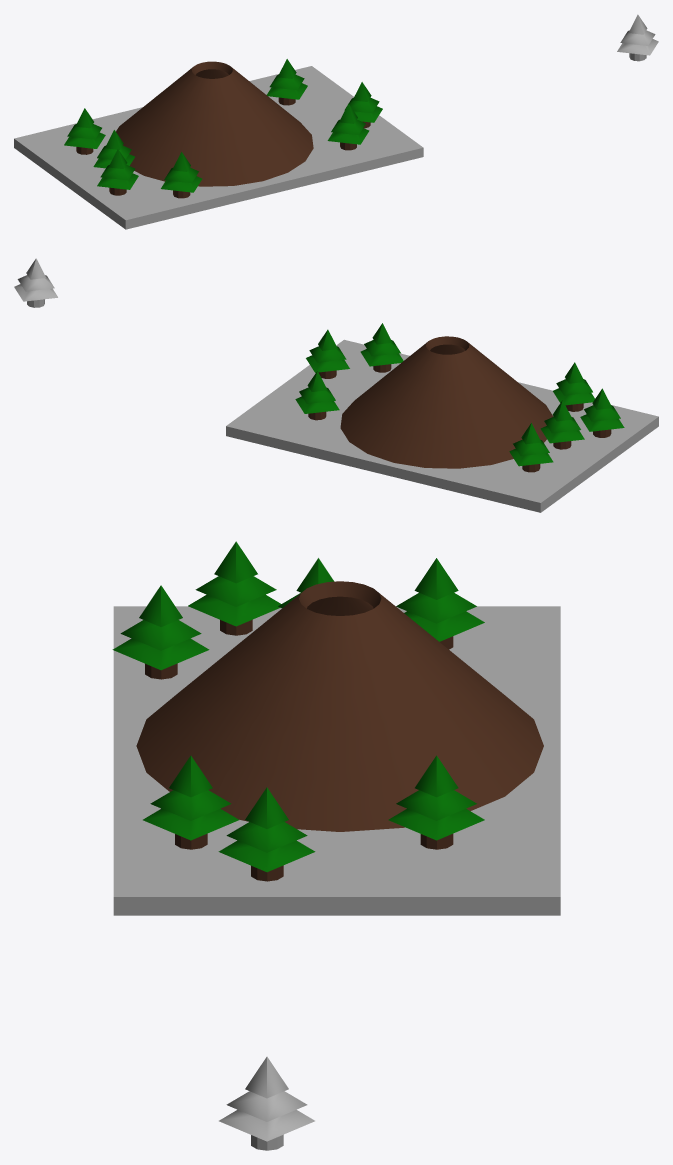
File: volcano.fbx
3 views of the same model, one above another, from view 1: azimuth 30°, elevation 25°; view 2: azimuth 150°, elevation 25°; view 3: azimuth 270°, elevation 25° (orthographic). The views are drawn at different scales.
Parts seen in each view (by area): view 1: base, volcano, tree5, tree3, tree6, tree4, tree2, trunk, tree, tree1; view 2: volcano, base, tree1, tree4, tree2, tree3, tree5, tree, tree6, trunk; view 3: volcano, base, tree3, tree4, tree6, tree, tree5, trunk, tree2.
Part boxes in pixels (bbox=[...]): base: bbox=[14, 66, 423, 229]; volcano: bbox=[116, 61, 313, 186]; tree5: bbox=[97, 149, 138, 195]; tree3: bbox=[267, 59, 307, 105]; tree6: bbox=[161, 152, 202, 198]; tree4: bbox=[327, 103, 369, 150]; tree2: bbox=[64, 108, 105, 154]; trunk: bbox=[617, 14, 658, 55]; tree: bbox=[344, 82, 382, 128]; tree1: bbox=[93, 130, 134, 168]; volcano: bbox=[340, 336, 553, 468]; base: bbox=[226, 339, 658, 512]; tree1: bbox=[540, 400, 584, 449]; tree4: bbox=[360, 323, 403, 372]; tree2: bbox=[509, 423, 553, 472]; tree3: bbox=[295, 371, 339, 420]; tree5: bbox=[580, 388, 624, 437]; tree: bbox=[306, 329, 349, 378]; tree6: bbox=[553, 362, 594, 411]; trunk: bbox=[14, 258, 57, 301]; volcano: bbox=[136, 581, 543, 831]; base: bbox=[113, 606, 560, 915]; tree3: bbox=[388, 755, 484, 849]; tree4: bbox=[143, 755, 238, 849]; tree6: bbox=[112, 585, 209, 679]; tree: bbox=[218, 787, 315, 881]; tree5: bbox=[188, 541, 281, 635]; trunk: bbox=[219, 1056, 314, 1141]; tree2: bbox=[396, 558, 484, 649].
Bounding box in the file's own units: 192 × 26.63 × 65.16.
